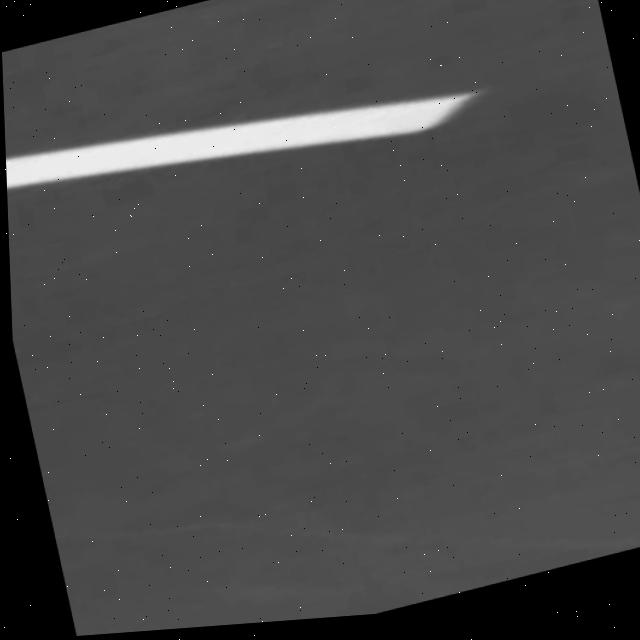center: (6, 93, 479, 189)
